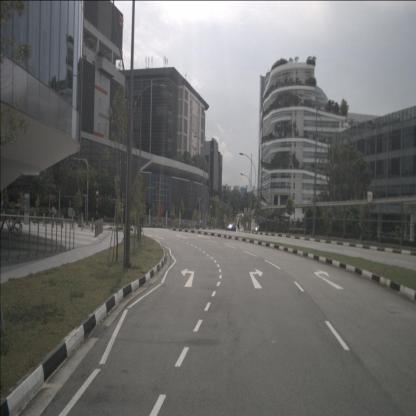human-pedestrian-adult: (51, 205, 54, 221), (196, 219, 200, 229), (237, 220, 240, 232), (54, 207, 56, 221)
vehicle-bicycle: (0, 206, 22, 236)
vehicle-car: (226, 224, 236, 232)
